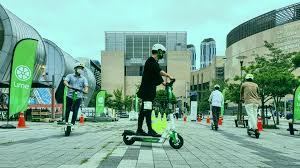helmet: (121, 42, 186, 151), (61, 61, 91, 138), (239, 72, 264, 140), (206, 83, 226, 131)
